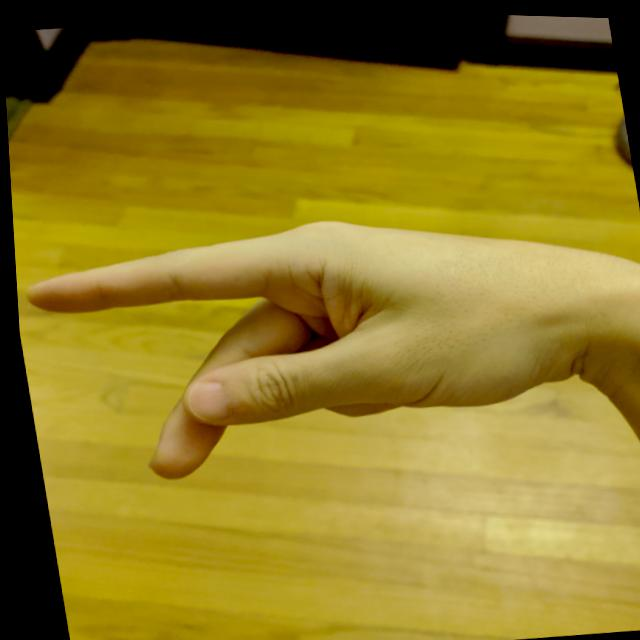P: (8, 179, 608, 514)
